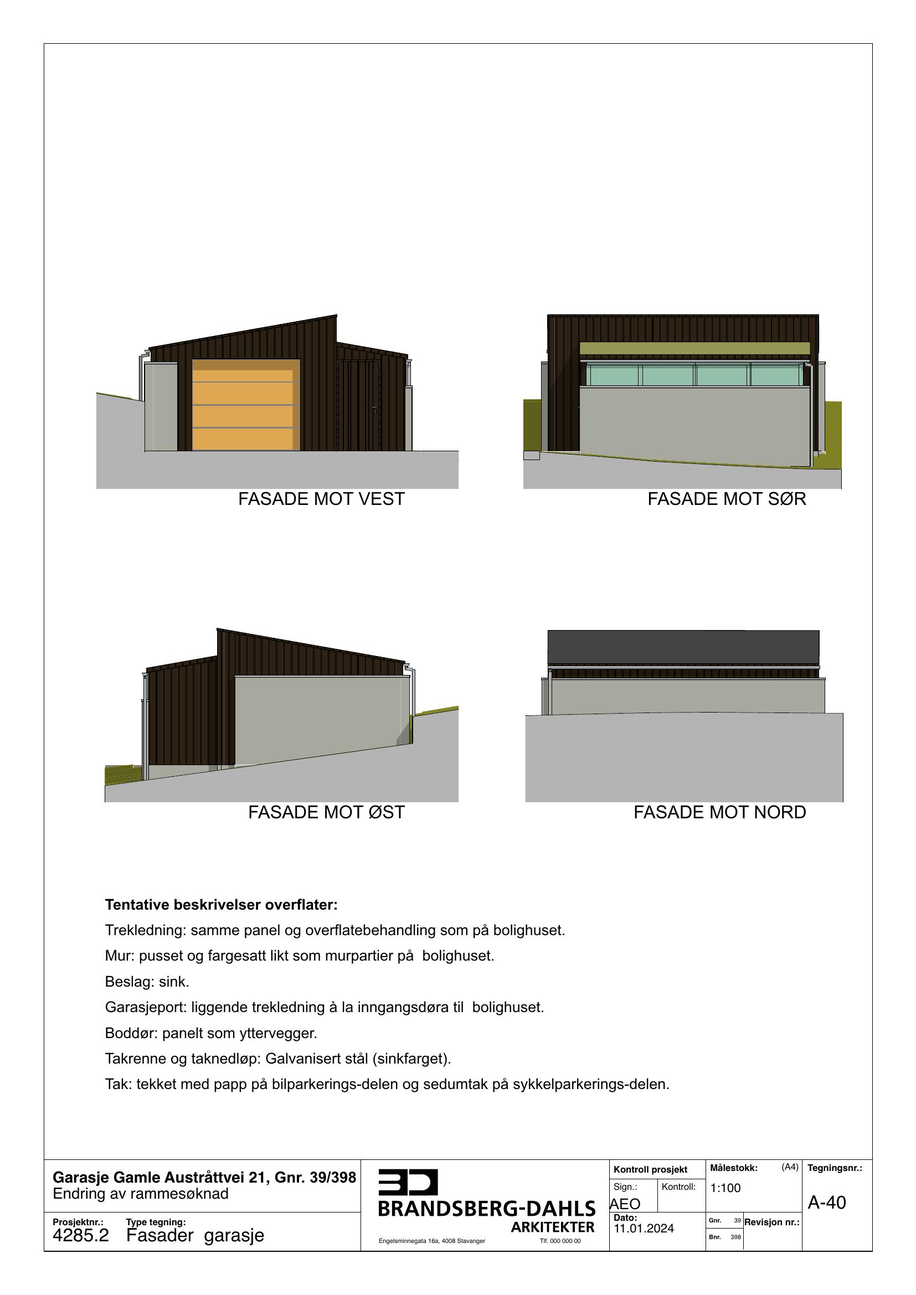fasade: (95, 312, 461, 492), (104, 626, 457, 804), (523, 313, 843, 492), (523, 628, 845, 804)
